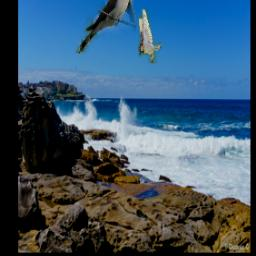Cuckoo: (76, 0, 137, 54)
Sparrow: (138, 9, 162, 63)
